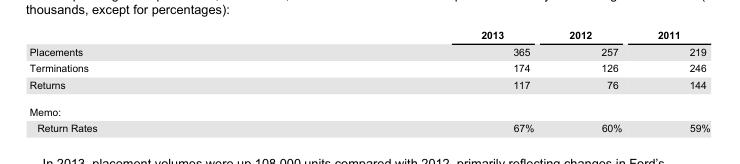table: (28, 28, 709, 133)
table column: (288, 28, 550, 133), (28, 28, 288, 133), (550, 28, 639, 133), (639, 28, 709, 133)
table column header: (28, 28, 709, 42)
table projected row header: (28, 97, 709, 119)
table row: (28, 75, 709, 97), (28, 97, 709, 119), (28, 42, 709, 59), (28, 59, 709, 75), (28, 28, 709, 42), (28, 119, 709, 133)
